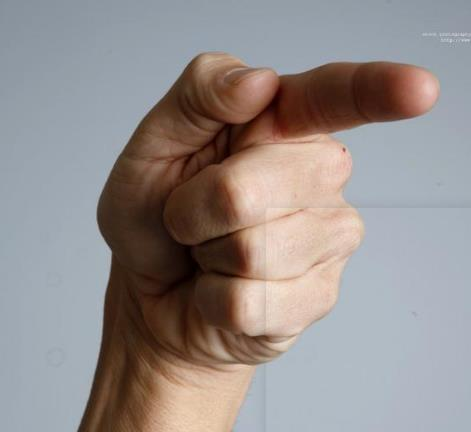up: (90, 49, 449, 367)
